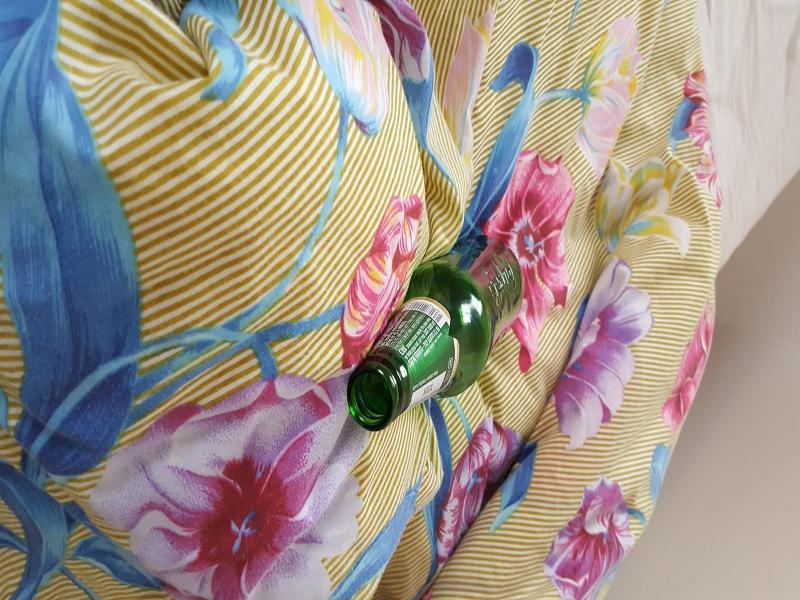Beer: (344, 235, 522, 433)
